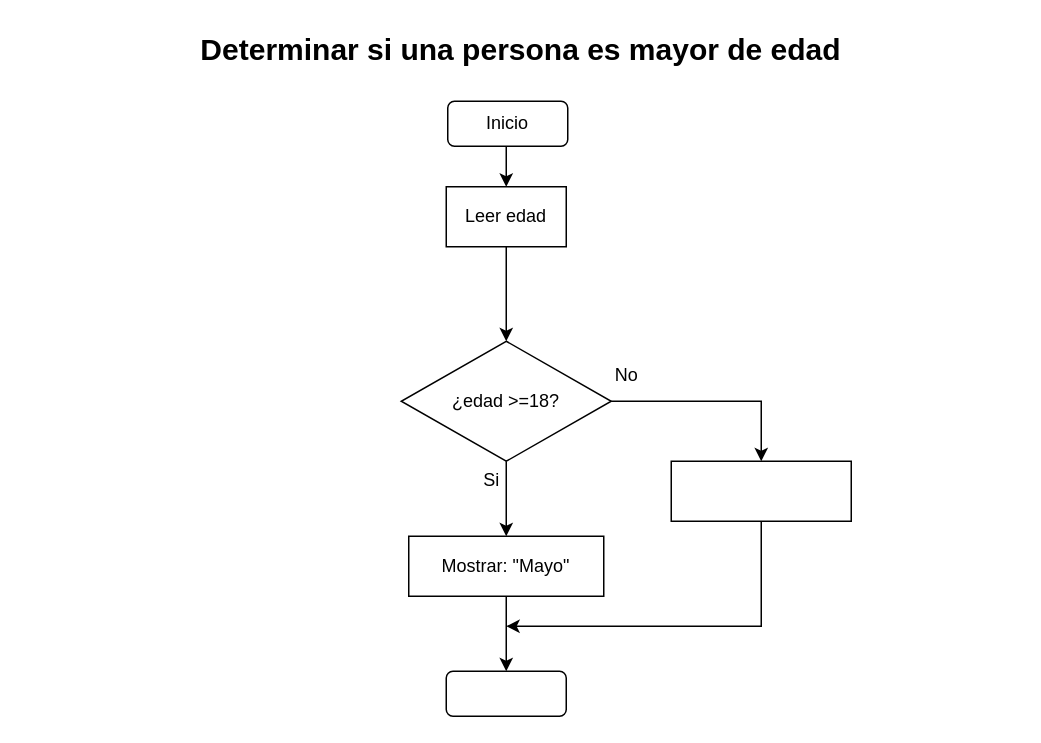
Image size: 1041x743. Some labels were removed from this diagram. Here are the shapes that lost their labels. From the top down, the box of each, then its label:
(670, 460, 851, 521): Mostrar: "Menor"
(445, 670, 566, 716): Fin
